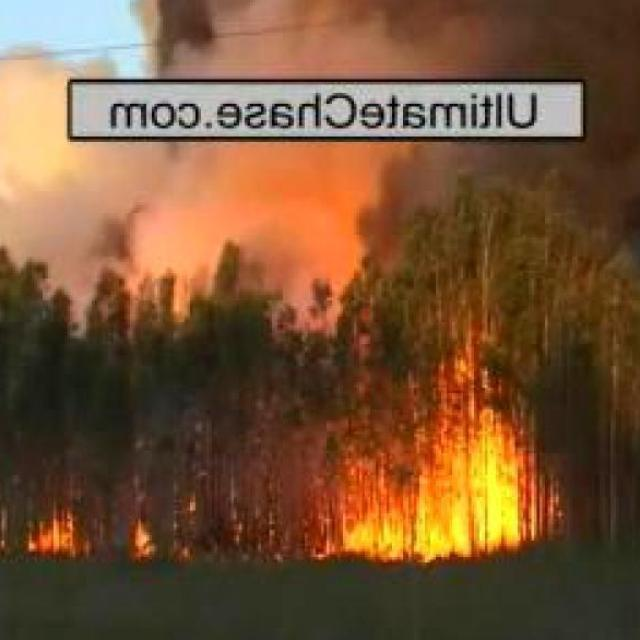Fire: (331, 391, 561, 561), (23, 506, 83, 560), (125, 515, 161, 557)
